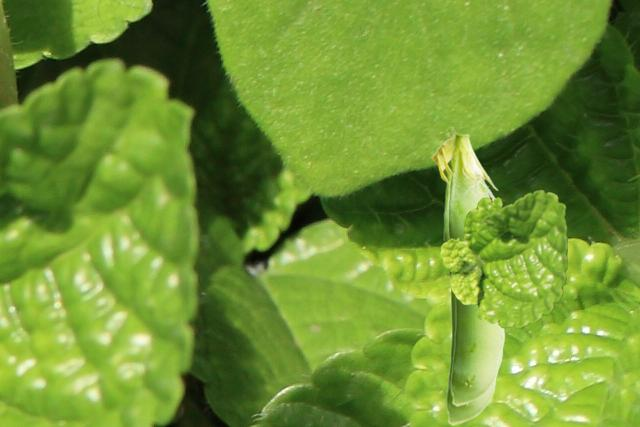pea: (431, 132, 502, 424), (436, 126, 504, 405)
